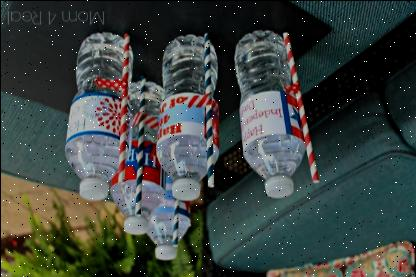Plastic Bottle: (233, 29, 304, 198), (63, 31, 131, 200), (155, 33, 218, 200), (109, 75, 163, 235), (146, 175, 189, 261)
